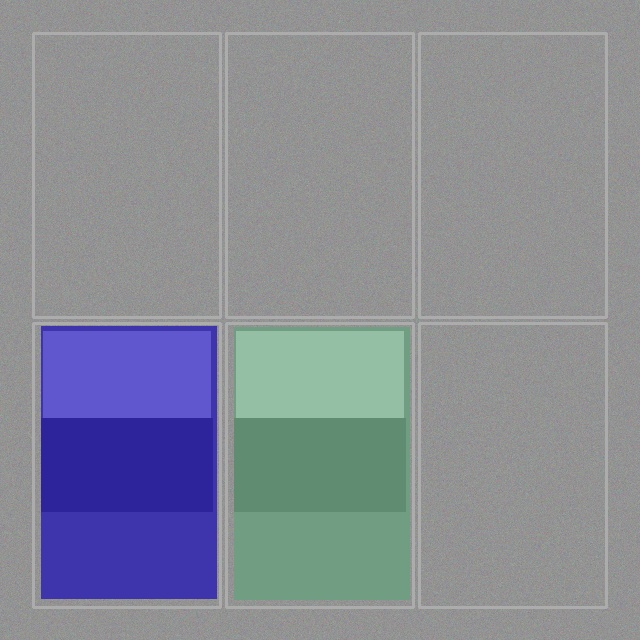space-empty: (35, 35, 218, 315), (228, 35, 411, 315), (421, 35, 604, 315), (421, 325, 604, 605)
space-occupied: (35, 325, 218, 605), (228, 325, 411, 605)
